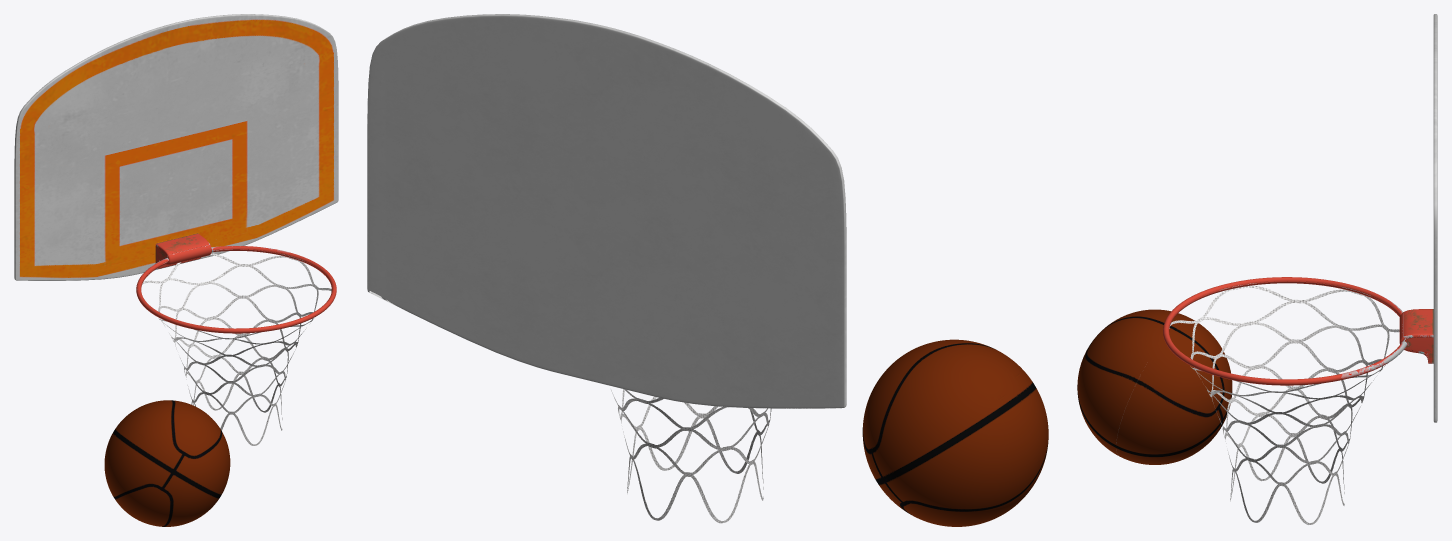
Rendered from BBallHoop2.fbx.
The picture shows the model from 3 angles, left to right: view 1: azimuth 30°, elevation 25°; view 2: azimuth 150°, elevation 25°; view 3: azimuth 270°, elevation 25°; orthographic projection. The views are drawn at different scales.
Parts seen in each view (by area): view 1: board, ball, net; view 2: board, ball, net; view 3: ball, net, board.
Boxes of the visible parts, x1=… form: board: x1=14, y1=14, x2=338, y2=333; ball: x1=104, y1=400, x2=230, y2=526; net: x1=142, y1=253, x2=331, y2=445; board: x1=367, y1=14, x2=846, y2=408; ball: x1=862, y1=339, x2=1048, y2=526; net: x1=611, y1=389, x2=771, y2=523; ball: x1=1077, y1=309, x2=1232, y2=464; net: x1=1169, y1=283, x2=1399, y2=524; board: x1=1163, y1=14, x2=1437, y2=422.
Bounding box in the file's own units: 15.63 × 16.99 × 11.63.
Materials: 3 (3 with a texture image).
